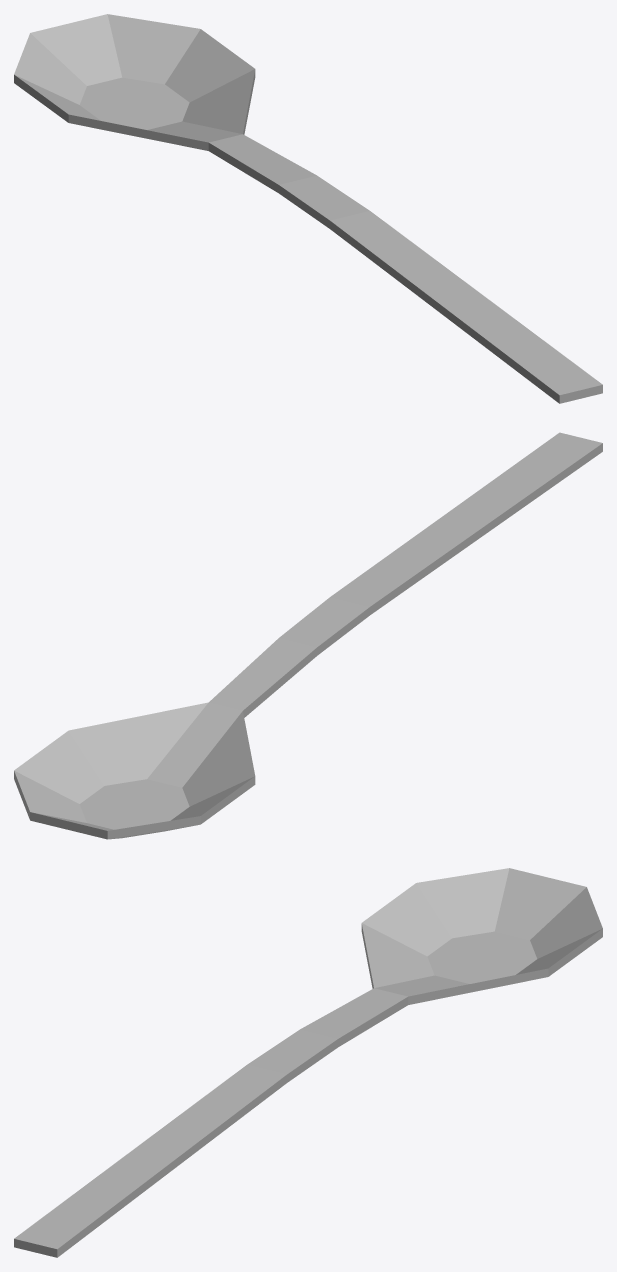
File: KitchenProps_01.fbx
3 views of the same model, one above another, from view 1: azimuth 30°, elevation 25°; view 2: azimuth 150°, elevation 25°; view 3: azimuth 330°, elevation 25° (orthographic).
Visible parts, largest first — view 1: KitchenProps_01; view 2: KitchenProps_01; view 3: KitchenProps_01.
Part boxes in pixels (x1,y1,x2,y2): KitchenProps_01: (14, 14, 602, 403); KitchenProps_01: (14, 432, 602, 839); KitchenProps_01: (14, 868, 602, 1257).
Bounding box in the file's own units: 4.27 × 1.14 × 20.31.
